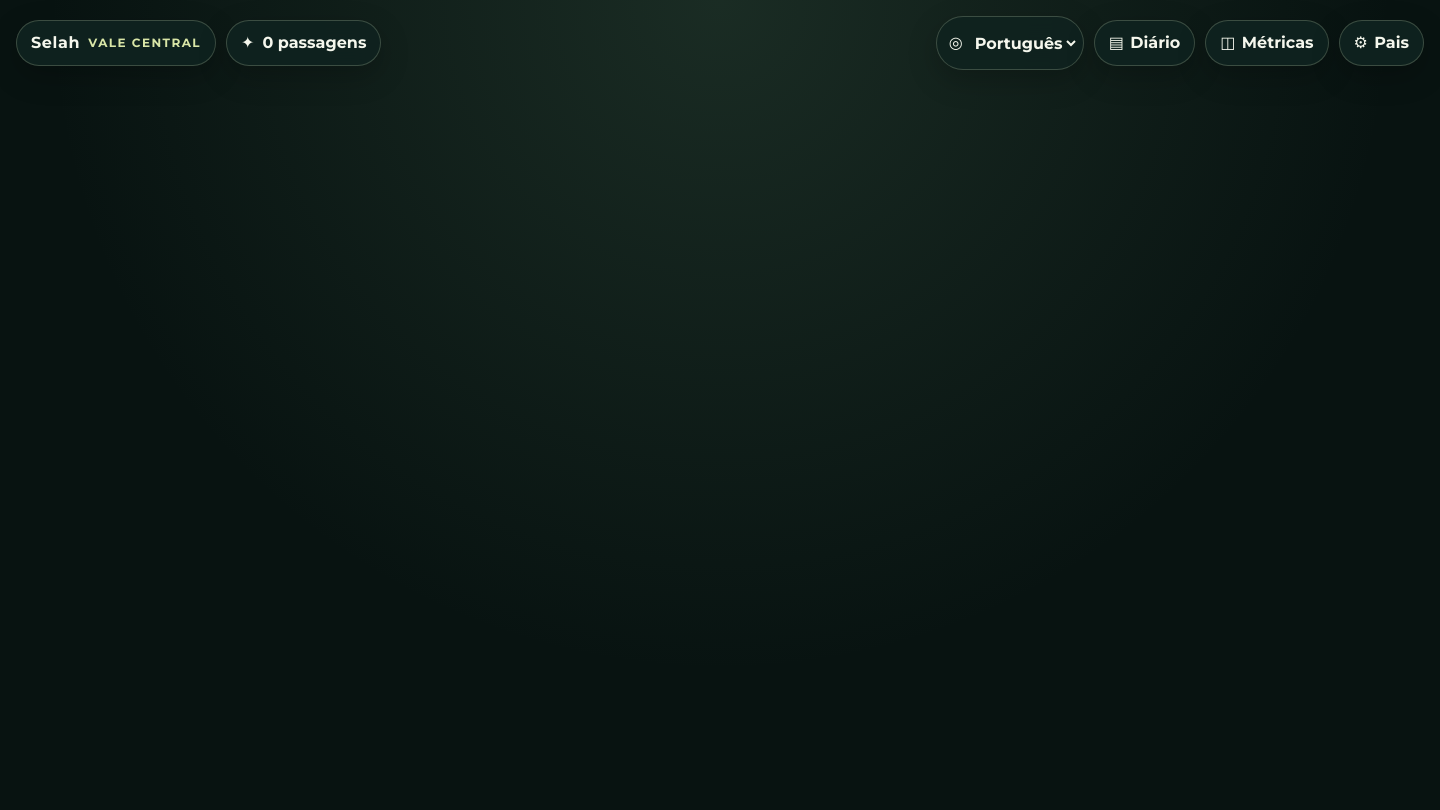
Test: GameOverlay › renders the HUD and opens composed panels
Expected: the header named "Informações e ações da exploração" is shown, [16,16,1424,70]
Step 1. Click the button with aria-label "Abrir métricas locais" → [1267, 43], box [1205,20,1329,66]
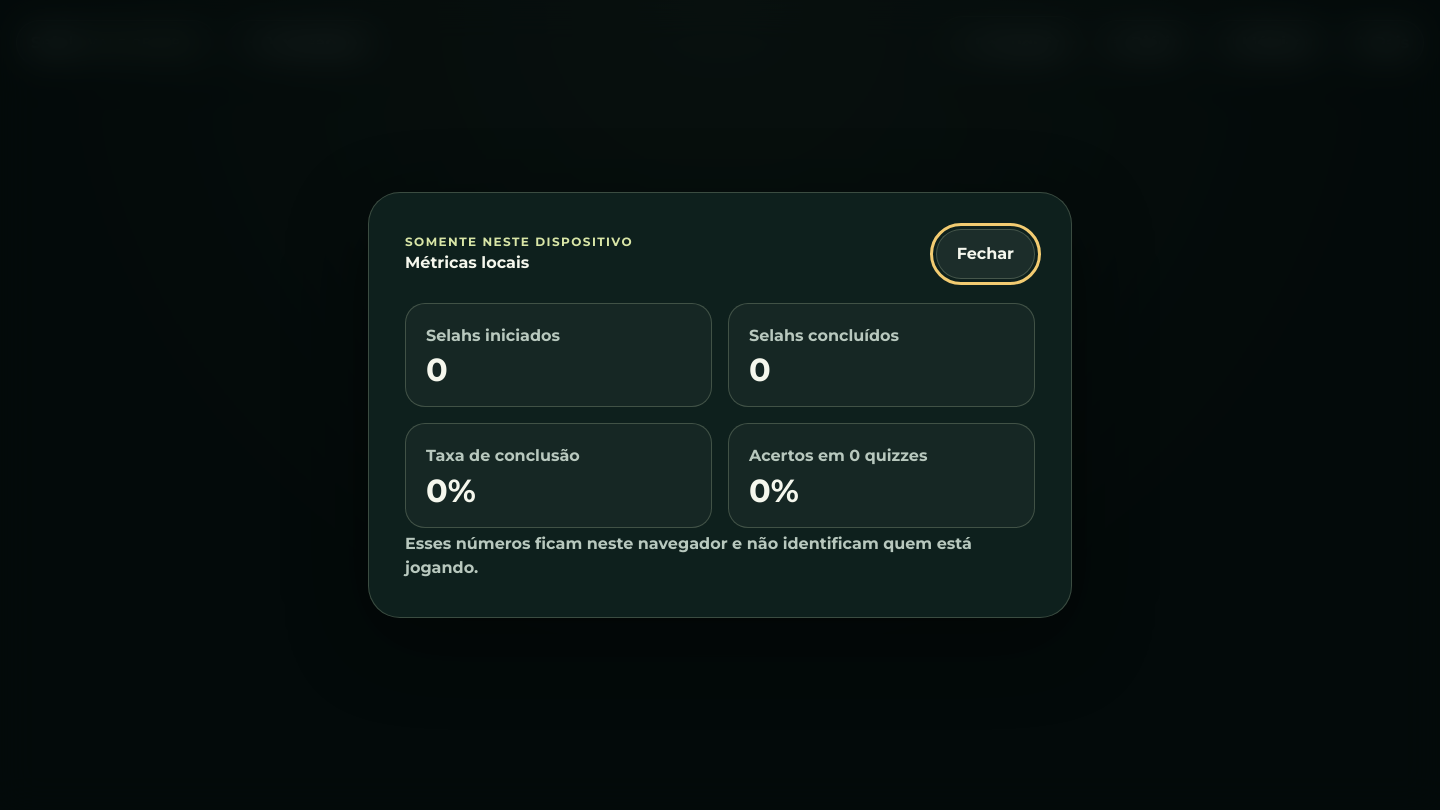
Expected: the dialog "Métricas locais" is shown, [368,192,1072,618]
